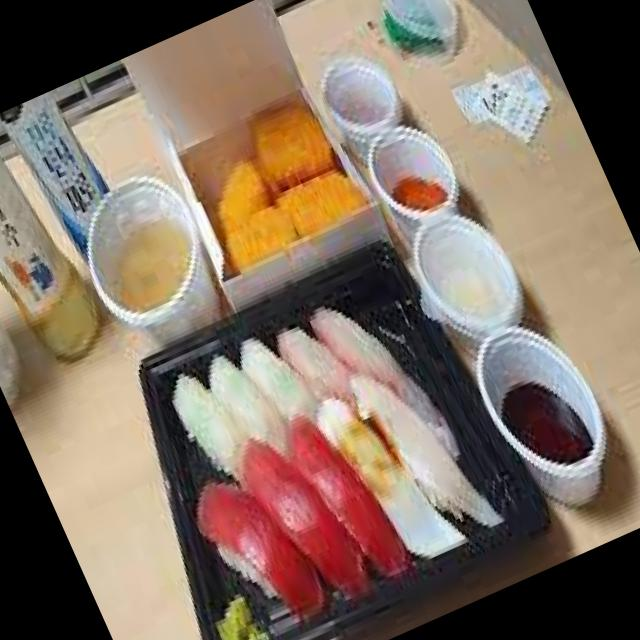glass bottle: (0, 146, 99, 371)
paper: (116, 0, 399, 309)
pet bottle: (0, 91, 112, 267), (375, 0, 476, 59)
plastic-bowl: (123, 221, 575, 640), (457, 302, 640, 530), (65, 150, 230, 351), (394, 190, 550, 354), (353, 107, 474, 242), (313, 31, 415, 157)
